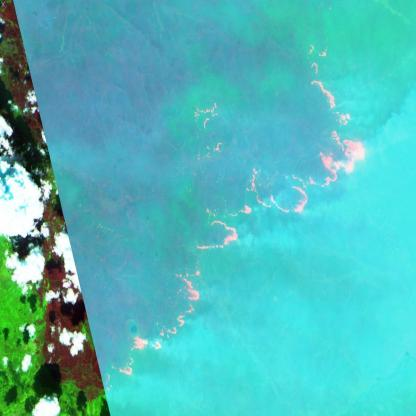fire: (98, 37, 370, 394)
